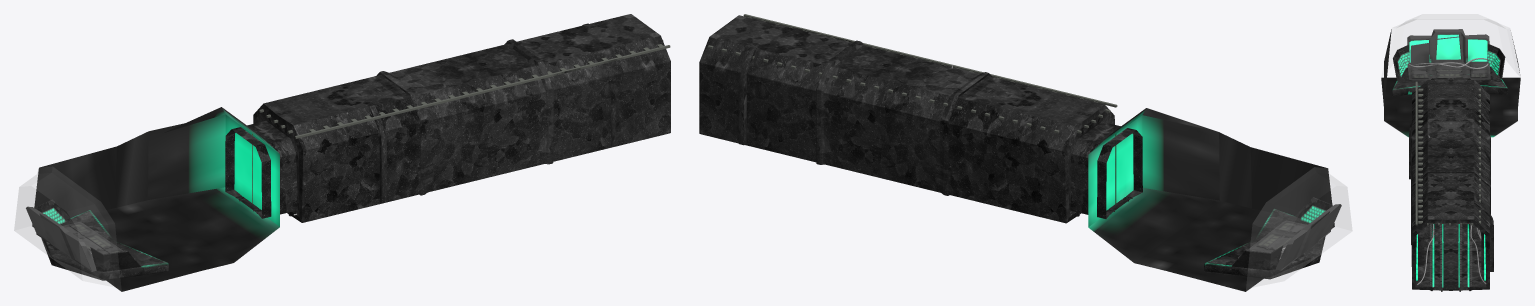
3 views of the same model, side by side, from view 1: azimuth 30°, elevation 25°; view 2: azimuth 150°, elevation 25°; view 3: azimuth 270°, elevation 25° (orthographic). The views are drawn at different scales.
Visible parts, largest first — view 1: Cube, Cube.009, Cube.010, Cube.013, Cube.004, Cube.014, Plane.005, Cube.003; view 2: Cube, Cube.009, Cube.013, Cube.010, Cube.014, Cube.004, Plane.004, Cube.003; view 3: Cube, Cube.010, Cube.009, Cube.013, Cube.014, Cube.003, Cube.004, Plane.004, Cube.011, Plane.003, Cube.002, BézierCurve.006 (+4 smaller).
Boxes of the visible parts, <box> form: Cube: <box>225,14,670,222</box>; Cube.009: <box>14,107,279,291</box>; Cube.010: <box>26,206,123,271</box>; Cube.013: <box>41,210,168,280</box>; Cube.004: <box>259,40,670,138</box>; Cube.014: <box>34,199,140,271</box>; Plane.005: <box>368,103,386,203</box>; Cube.003: <box>309,44,663,132</box>; Cube: <box>699,15,1142,223</box>; Cube.009: <box>1088,108,1352,291</box>; Cube.013: <box>1204,208,1325,279</box>; Cube.010: <box>1238,204,1341,270</box>; Cube.014: <box>1232,197,1332,270</box>; Cube.004: <box>743,14,1117,133</box>; Plane.004: <box>738,47,756,145</box>; Cube.003: <box>707,17,1097,133</box>; Cube: <box>1411,78,1490,291</box>; Cube.010: <box>1407,29,1490,81</box>; Cube.009: <box>1381,14,1520,137</box>; Cube.013: <box>1392,67,1508,96</box>; Cube.014: <box>1393,44,1505,80</box>; Cube.003: <box>1418,88,1480,223</box>; Cube.004: <box>1415,81,1473,225</box>; Plane.004: <box>1474,201,1493,271</box>; Cube.011: <box>1410,43,1429,65</box>; Plane.003: <box>1411,221,1424,266</box>; Cube.002: <box>1416,234,1485,280</box>; BézierCurve.006: <box>1409,62,1488,69</box>.
Bounding box in the file's own units: 23830 × 3799 × 6157.
